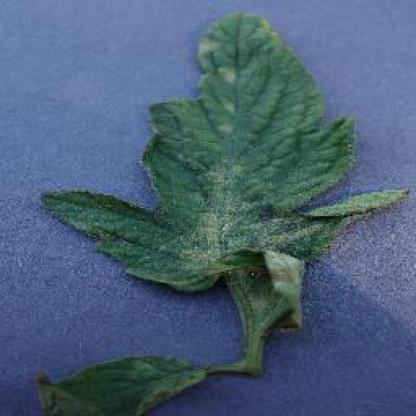Tomato_Leaf_Mold: (45, 13, 405, 293)
